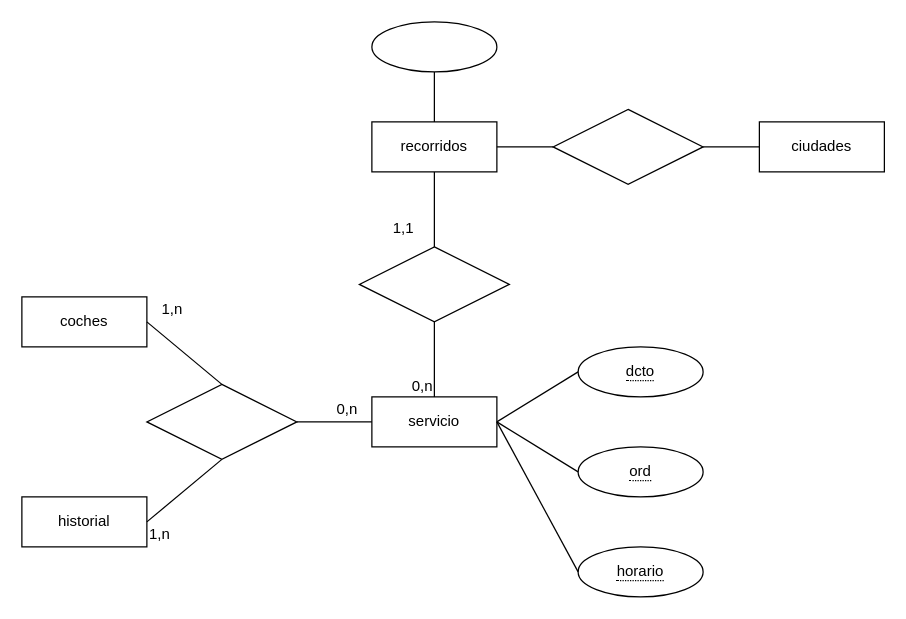
The diagram is 906 pixels wide and 619 high, and some of its shapes have lost their labels. Each missing label, with the centre of its shape:
asignan: the point at 221,421
codigo: the point at 434,46
pasa por: the point at 627,146
tiene: the point at 433,284
